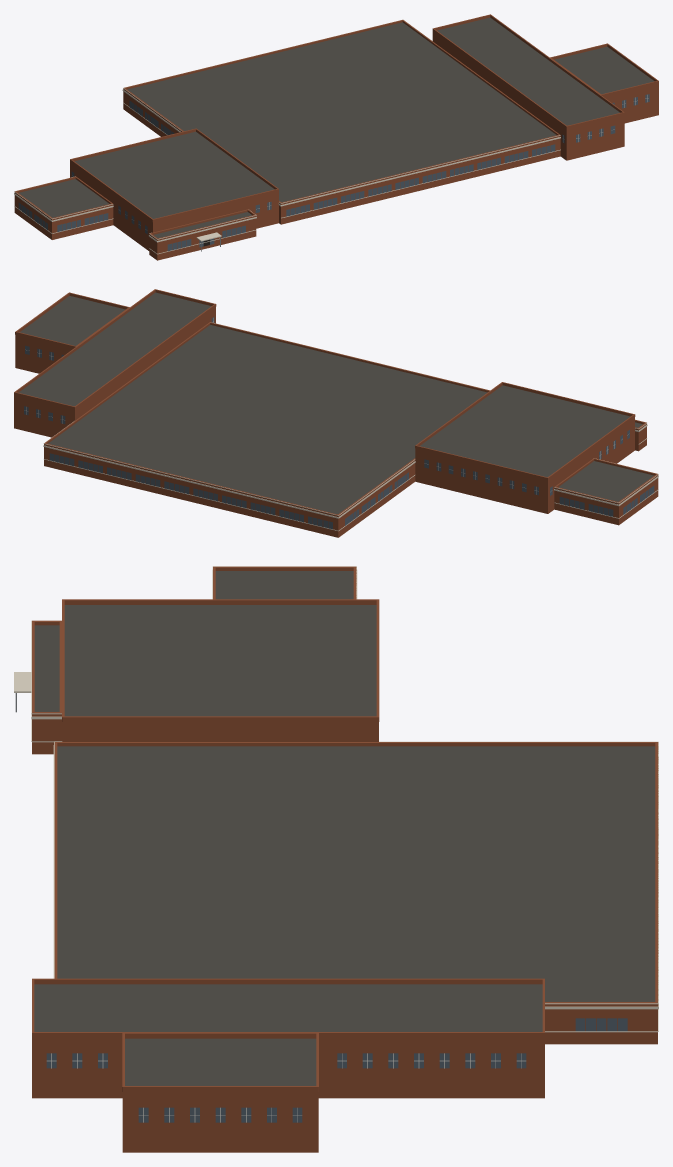
Rendered from henderson-school.glb.
3 views of the same model, one above another, from view 1: azimuth 30°, elevation 25°; view 2: azimuth 150°, elevation 25°; view 3: azimuth 270°, elevation 25° (orthographic). The views are drawn at different scales.
Parts seen in each view (by area): view 1: henderson_school; view 2: henderson_school; view 3: henderson_school.
Boxes of the visible parts, bbox=[...] form: henderson_school: bbox=[14, 14, 658, 260]; henderson_school: bbox=[14, 289, 658, 537]; henderson_school: bbox=[14, 566, 658, 1152].
Bounding box in the file's own units: 171 × 9.6 × 85.52.
